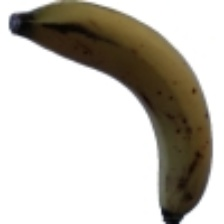banana: (29, 27, 218, 169)
